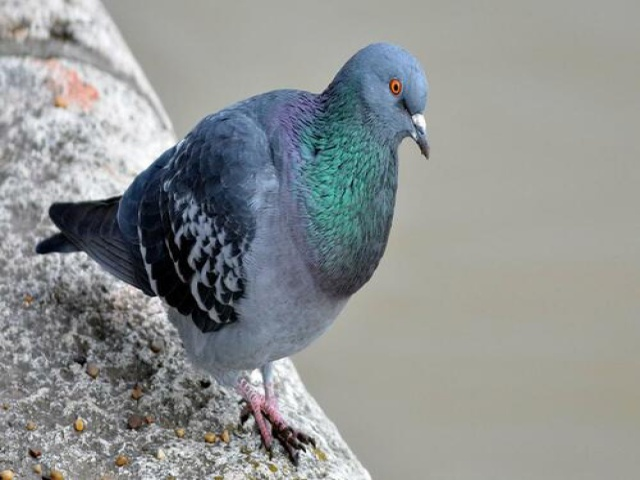Pigeon: (29, 38, 438, 448)
